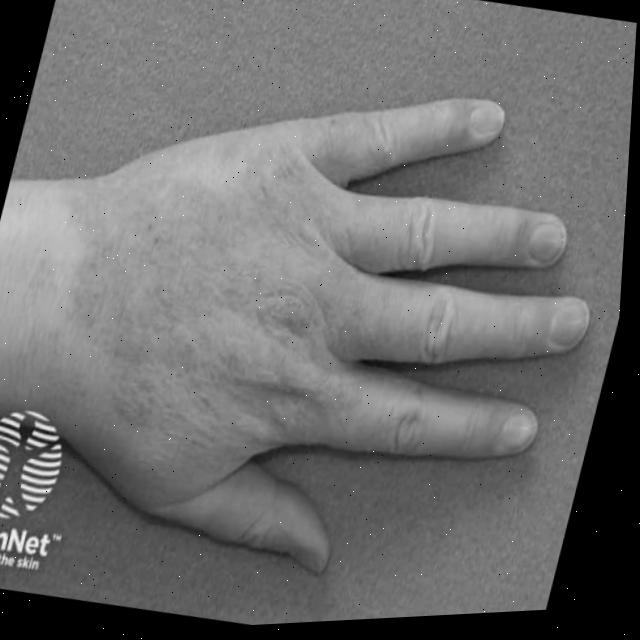Eczema: (43, 168, 404, 501)
